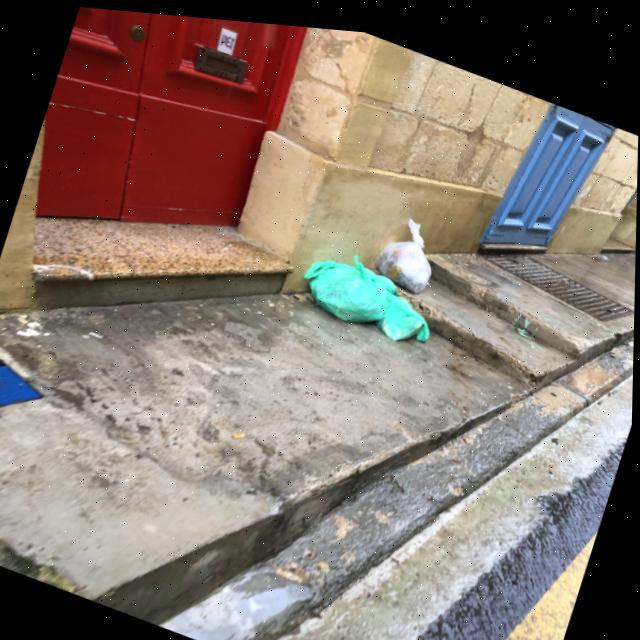Organic Waste -White Bag-: (368, 203, 443, 290)
Recycled Waste -Grey or Green Bag-: (298, 241, 445, 346)
